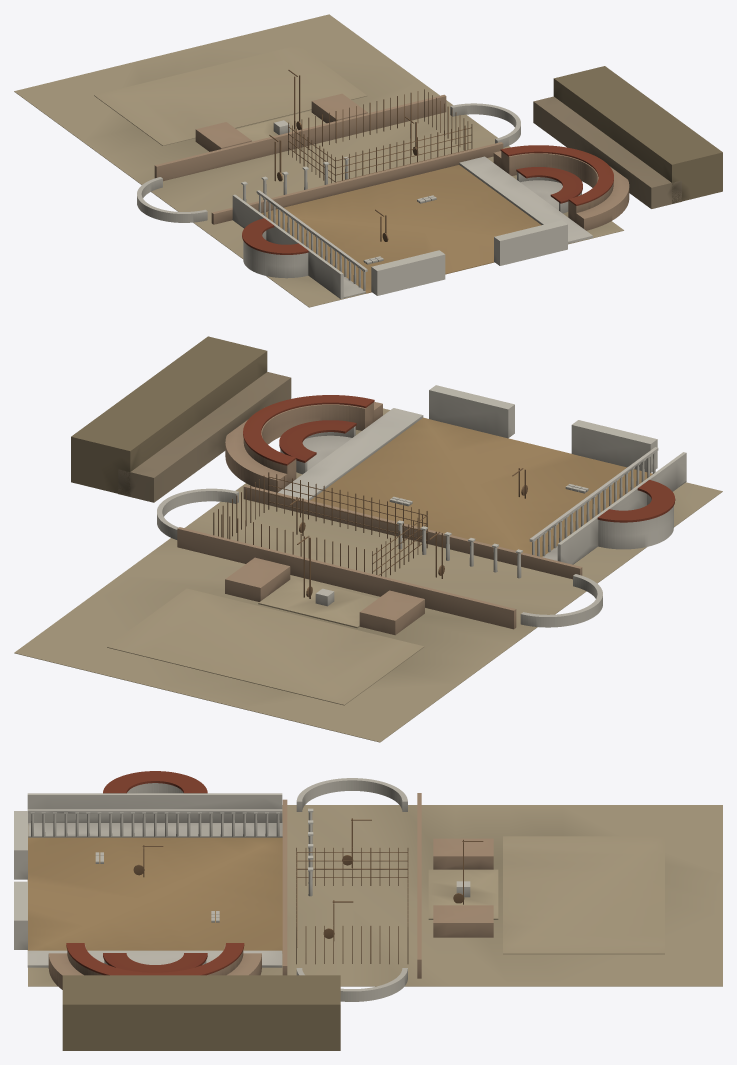
The model's file is forum-of-trajan-construction.glb.
3 views of the same model, one above another, from view 1: azimuth 30°, elevation 25°; view 2: azimuth 150°, elevation 25°; view 3: azimuth 270°, elevation 25° (orthographic). The views are drawn at different scales.
Parts seen in each view (by area): view 1: p0_plaza, p1_markets, p2_earthworks; view 2: p0_plaza, p1_markets, p2_earthworks; view 3: p0_plaza, p1_markets, p2_earthworks.
Part boxes in pixels (x1,y1,x2,y2): p0_plaza: (14,14,623,307); p1_markets: (94,45,629,299); p2_earthworks: (242,66,722,264); p0_plaza: (14,408,722,742); p1_markets: (107,385,686,705); p2_earthworks: (71,336,675,606); p0_plaza: (27,805,722,986); p1_markets: (14,778,664,1001); p2_earthworks: (62,771,483,1050).
Bounding box in the file's own units: 268 × 30.41 × 306.
